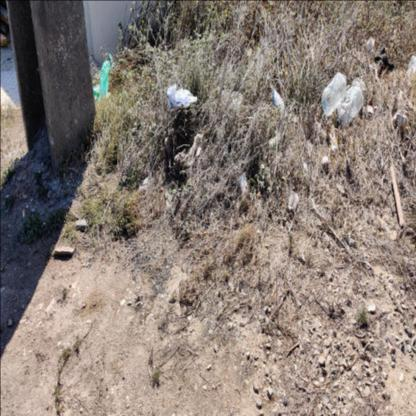Bottle cap: (322, 71, 347, 115), (336, 86, 362, 127)
Cup: (288, 191, 298, 214)
Plastic bag - wrapper: (93, 53, 114, 101), (174, 133, 204, 166), (166, 81, 197, 108), (351, 78, 365, 98), (406, 54, 416, 74), (367, 36, 375, 52), (331, 138, 338, 154)
Unlabeled litter: (271, 85, 288, 119), (374, 46, 394, 71), (239, 171, 248, 196), (268, 133, 278, 151)
